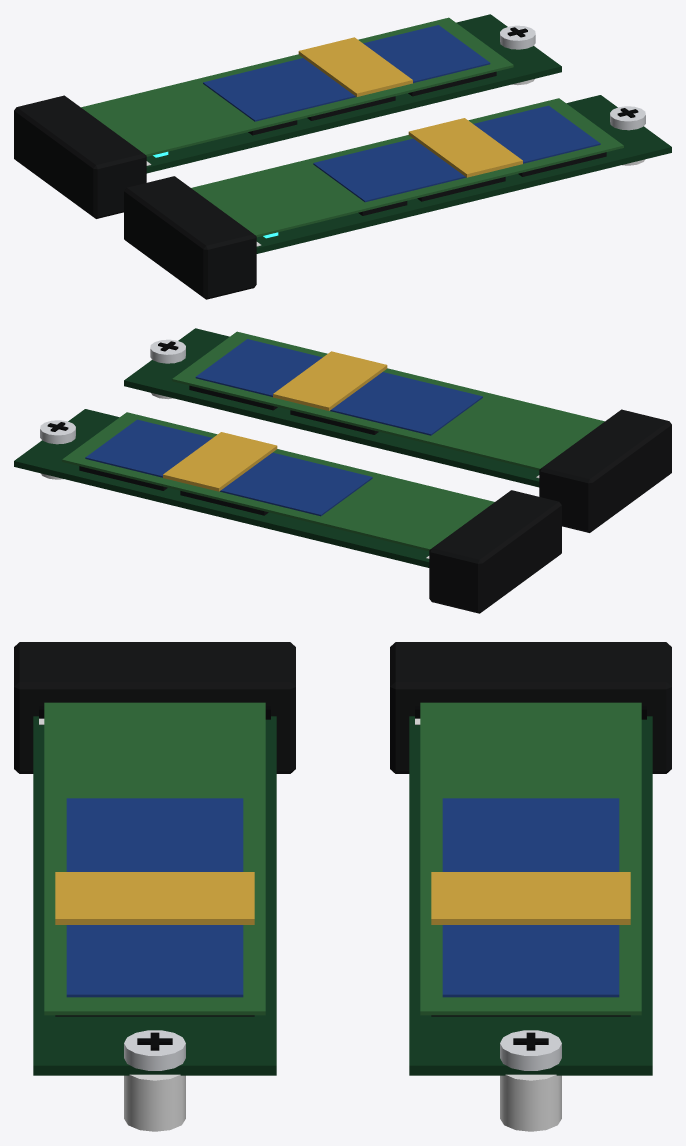
Rendered from hwm_sto_hdd_8tb.glb.
The picture shows the model from 3 angles, top to bottom: view 1: azimuth 30°, elevation 25°; view 2: azimuth 150°, elevation 25°; view 3: azimuth 270°, elevation 25°; orthographic projection. The views are drawn at different scales.
Parts seen in each view (by area): view 1: SSD_0, SSD_1, Slots, Screw_0, Screw_1; view 2: SSD_1, SSD_0, Slots, Screw_1, Screw_0; view 3: SSD_0, SSD_1, Slots, Screw_0, Screw_1.
Part boxes in pixels (x1,y1,x2,y2): SSD_0: [81, 14, 561, 173]; SSD_1: [191, 95, 671, 253]; Slots: [14, 45, 645, 299]; Screw_0: [500, 25, 535, 49]; Screw_1: [610, 106, 645, 130]; SSD_1: [124, 328, 604, 487]; SSD_0: [14, 409, 494, 567]; Slots: [40, 359, 671, 613]; Screw_1: [150, 339, 185, 363]; Screw_0: [40, 420, 75, 444]; SSD_0: [409, 702, 652, 1075]; SSD_1: [33, 702, 276, 1075]; Slots: [14, 642, 671, 1131]; Screw_0: [500, 1030, 561, 1070]; Screw_1: [124, 1030, 185, 1070].
Size of the model in its own units: 0.0855 by 0.0092 by 0.0595.
